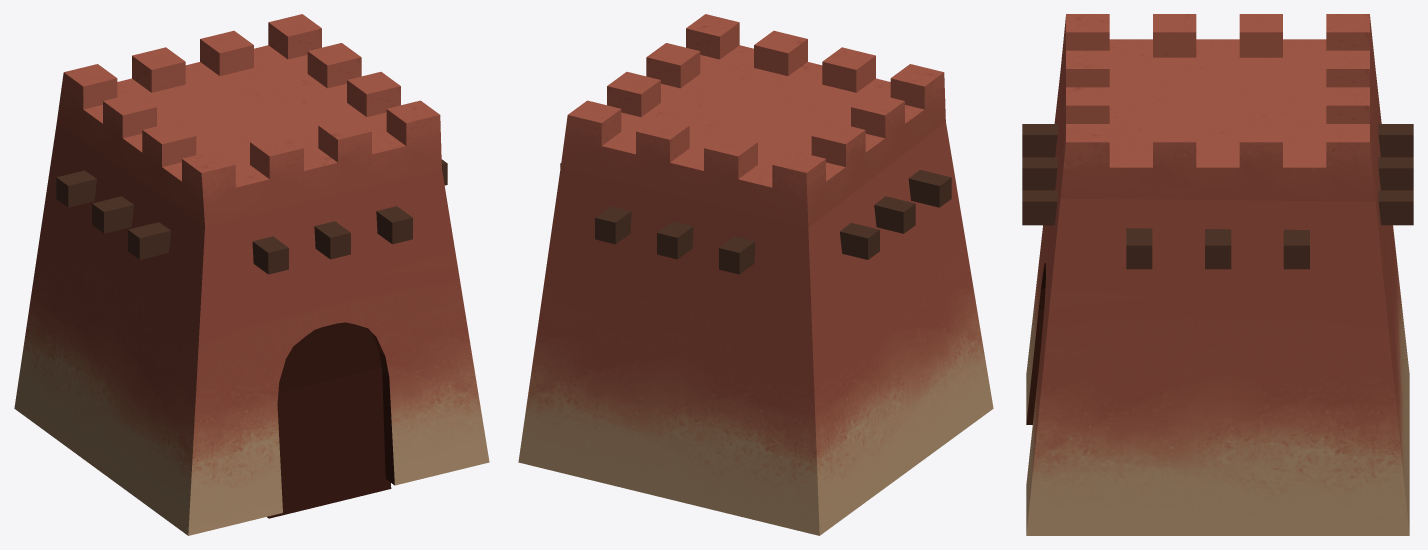
Rendered from BuildingA.fbx.
3 views of the same model, side by side, from view 1: azimuth 30°, elevation 25°; view 2: azimuth 150°, elevation 25°; view 3: azimuth 270°, elevation 25° (orthographic). The views are drawn at different scales.
Visible parts, largest first — view 1: doorway 3.001; view 2: doorway 3.001; view 3: doorway 3.001.
Boxes of the visible parts, left/top/right/bottom form: doorway 3.001: left=14, top=14, right=489, bottom=535; doorway 3.001: left=518, top=14, right=993, bottom=535; doorway 3.001: left=1022, top=14, right=1413, bottom=535.
Size of the model in its own units: 503 by 551 by 503.
